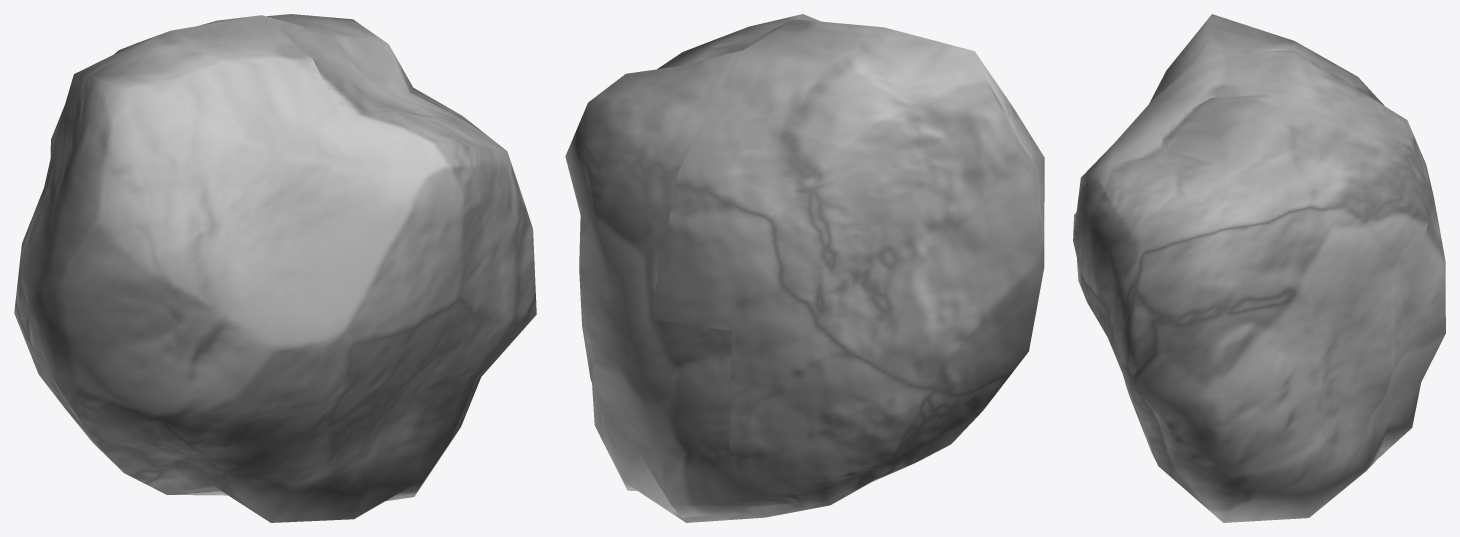
File: asteroide1.obj
3 renders of one model, left to right at view 1: azimuth 30°, elevation 25°; view 2: azimuth 150°, elevation 25°; view 3: azimuth 270°, elevation 25°, orthographic. The views are drawn at different scales.
Visible parts, largest first — view 1: 2eaa4f30d4994a96b8964612f0d88797_Material.001; view 2: 2eaa4f30d4994a96b8964612f0d88797_Material.001; view 3: 2eaa4f30d4994a96b8964612f0d88797_Material.001.
Part boxes in pixels (bbox=[...]): 2eaa4f30d4994a96b8964612f0d88797_Material.001: bbox=[14, 14, 536, 522]; 2eaa4f30d4994a96b8964612f0d88797_Material.001: bbox=[565, 14, 1044, 522]; 2eaa4f30d4994a96b8964612f0d88797_Material.001: bbox=[1073, 14, 1445, 522].
Size of the model in its own units: 2.58 by 2.62 by 2.26.
